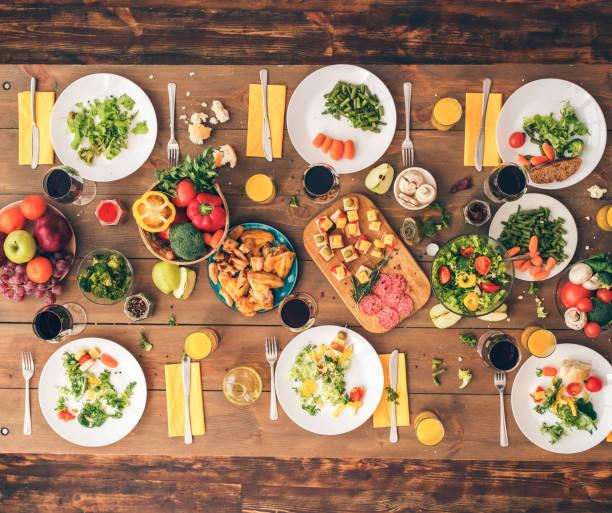Braised Crucian Carp: (302, 194, 431, 333), (494, 77, 606, 190), (285, 64, 397, 173), (273, 326, 384, 434), (49, 73, 157, 182), (37, 338, 146, 446), (509, 343, 612, 452), (1, 197, 77, 308), (136, 175, 227, 265), (489, 194, 578, 281), (212, 222, 297, 313), (430, 232, 514, 317)
